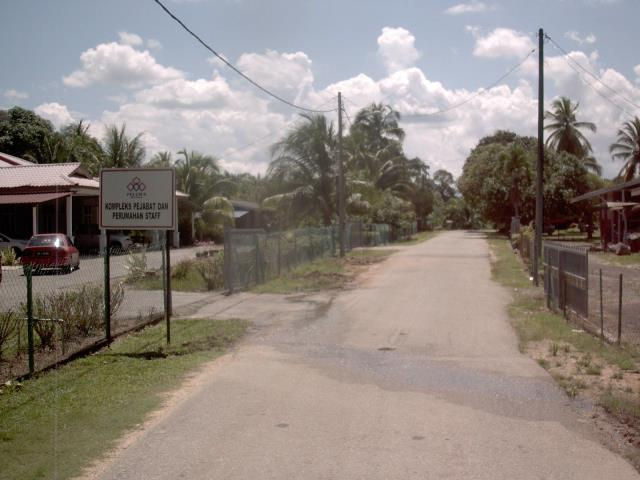ads_sign: (91, 163, 184, 238)
